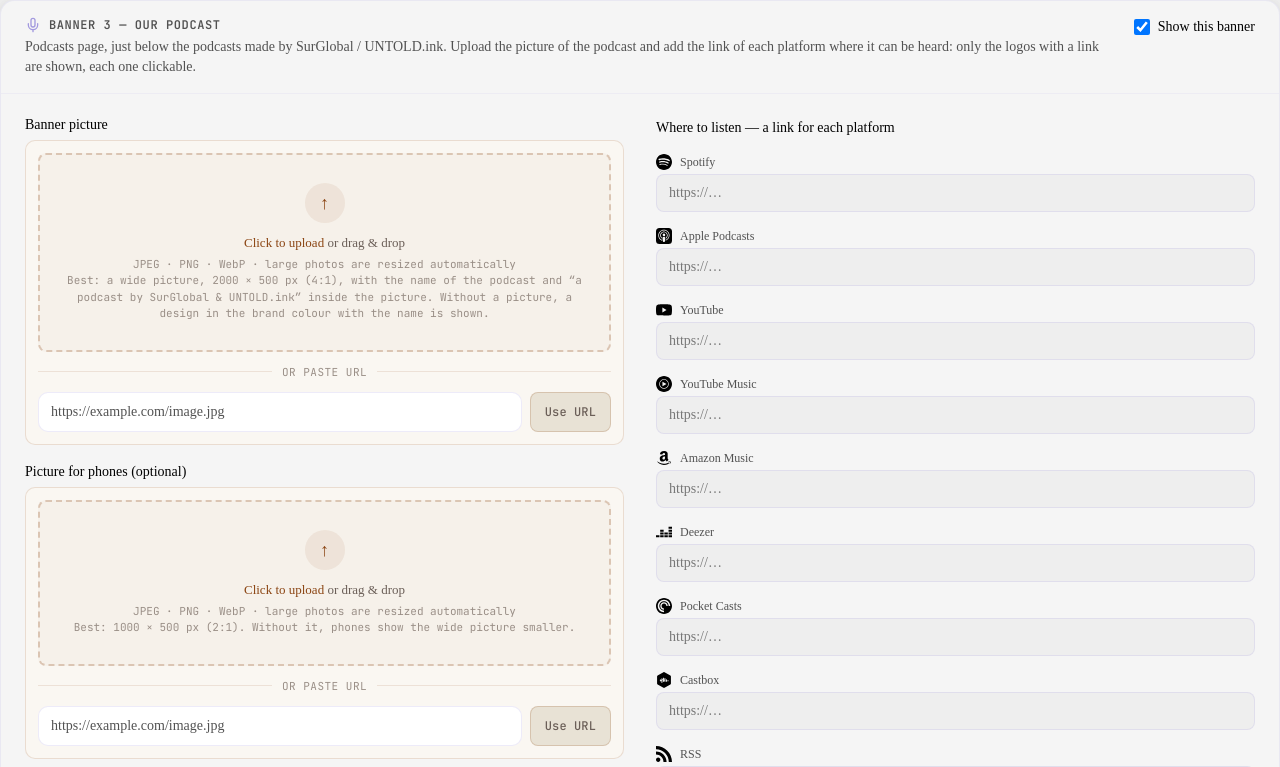
Test: PodcastBannerForm (Admin → Advertising) › warns about an address that is not a web address and does not preview it
Type "javascript:alert(1)" into the field labelled "YouTube". click: (956, 341)
box: [656,322,1255,360]
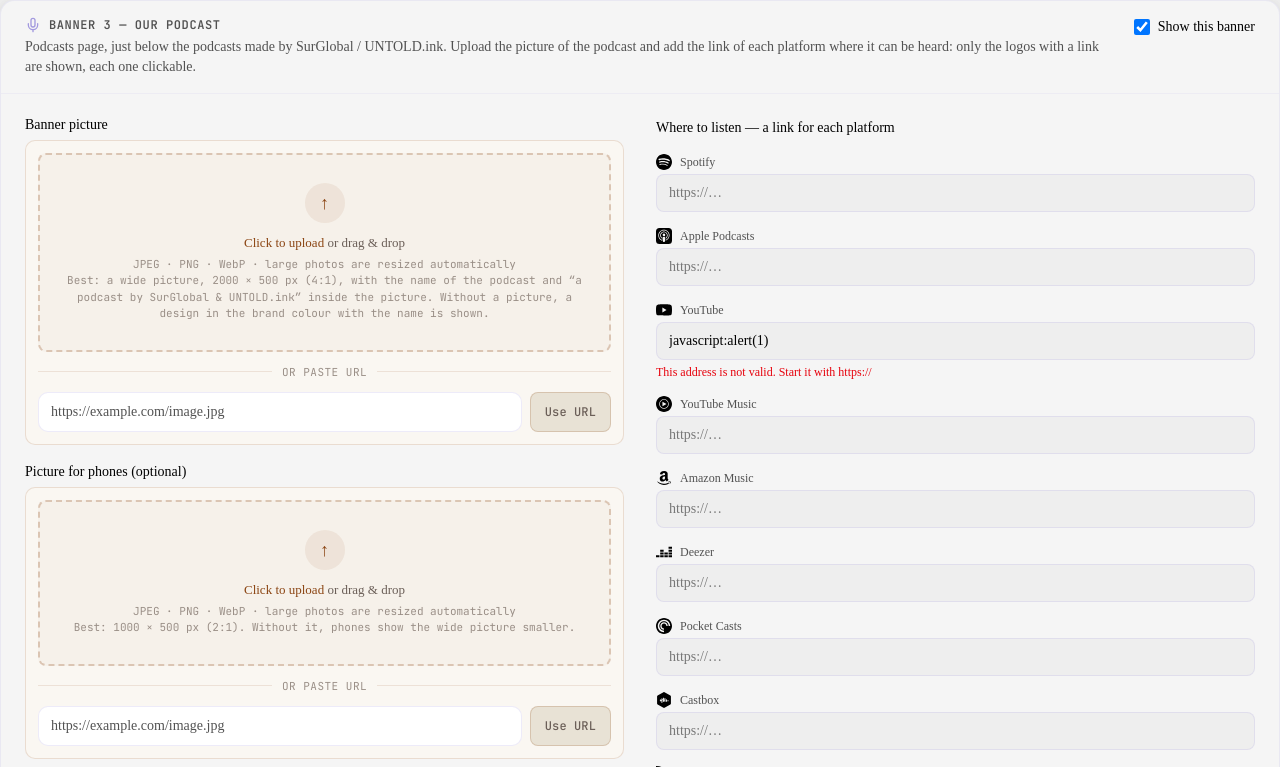
Expected: the text "This address is not valid. Start it with https://" is shown, [656,365,872,379]
